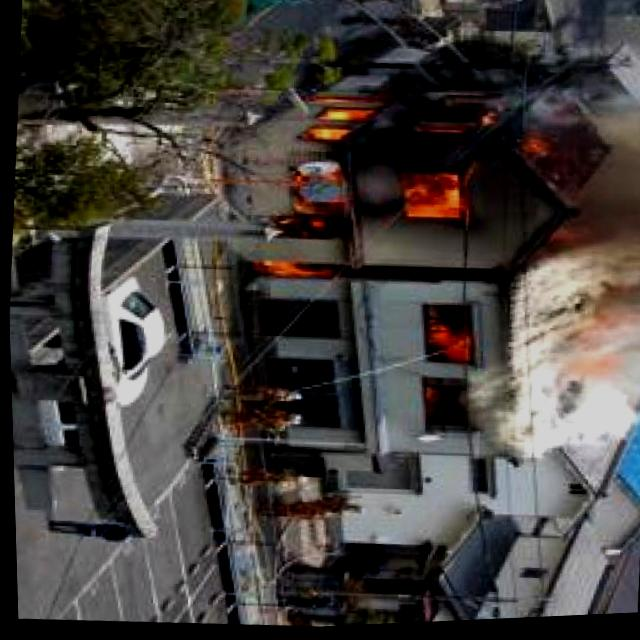helmet: (397, 169, 474, 237), (421, 305, 481, 368), (296, 102, 371, 148), (239, 254, 333, 289)
no_helmet: (488, 113, 640, 467)
